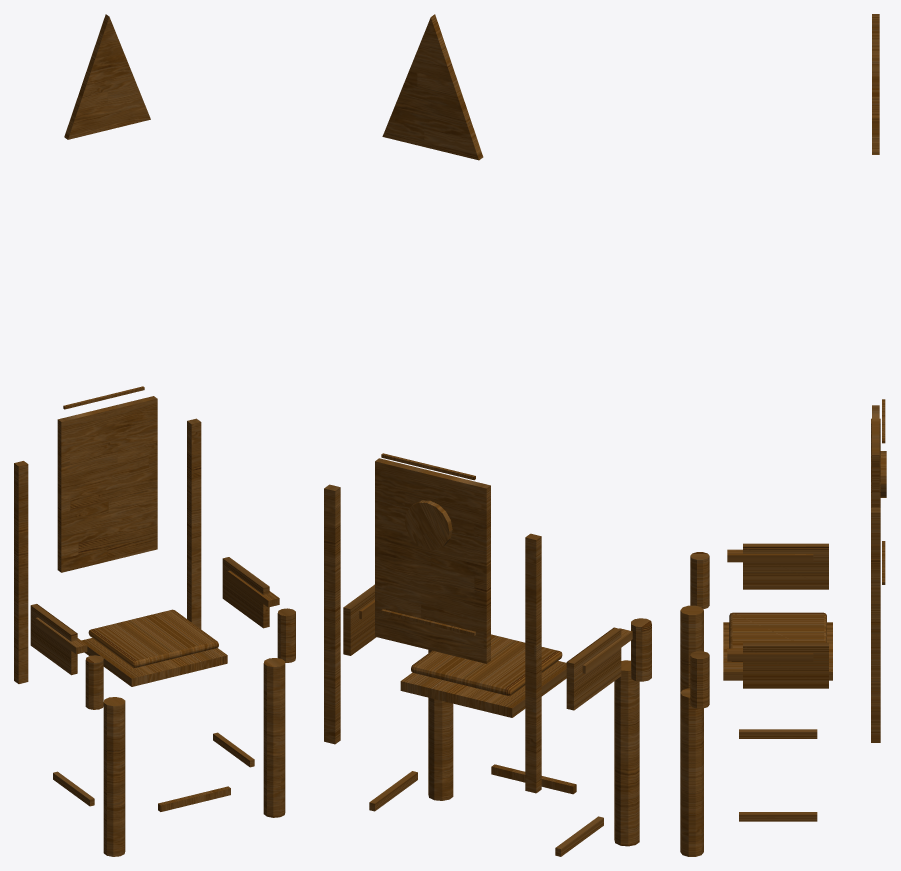
File: throne.fbx
The picture shows the model from 3 angles, left to right: view 1: azimuth 30°, elevation 25°; view 2: azimuth 150°, elevation 25°; view 3: azimuth 270°, elevation 25°; orthographic projection. The views are drawn at different scales.
Visible parts, largest first — view 1: throne; view 2: throne; view 3: throne.
Boxes of the visible parts, x1,y1,x2,y2 form: throne: (14, 14, 295, 856); throne: (324, 14, 651, 856); throne: (680, 14, 886, 856).
Size of the model in its own units: 0.6476 by 2.25 by 0.5275.
1 material, 1 textured.
